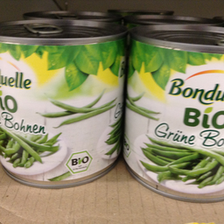beans: (1, 18, 129, 191), (132, 21, 224, 199)
